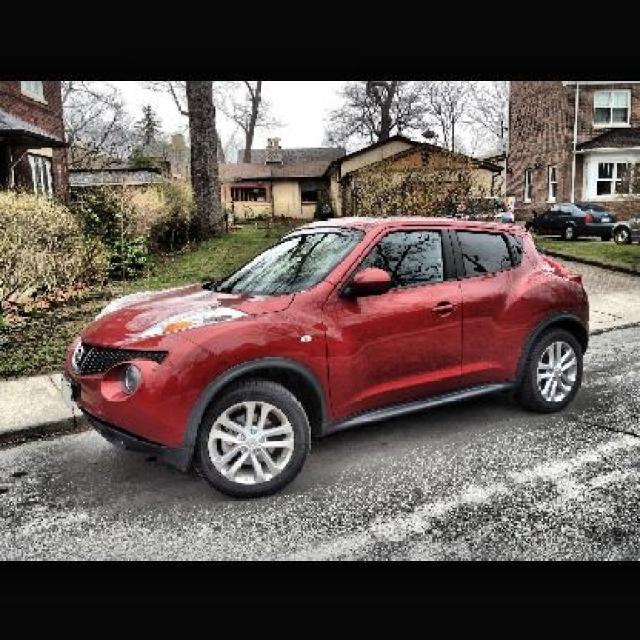maroon: (74, 210, 590, 456)
